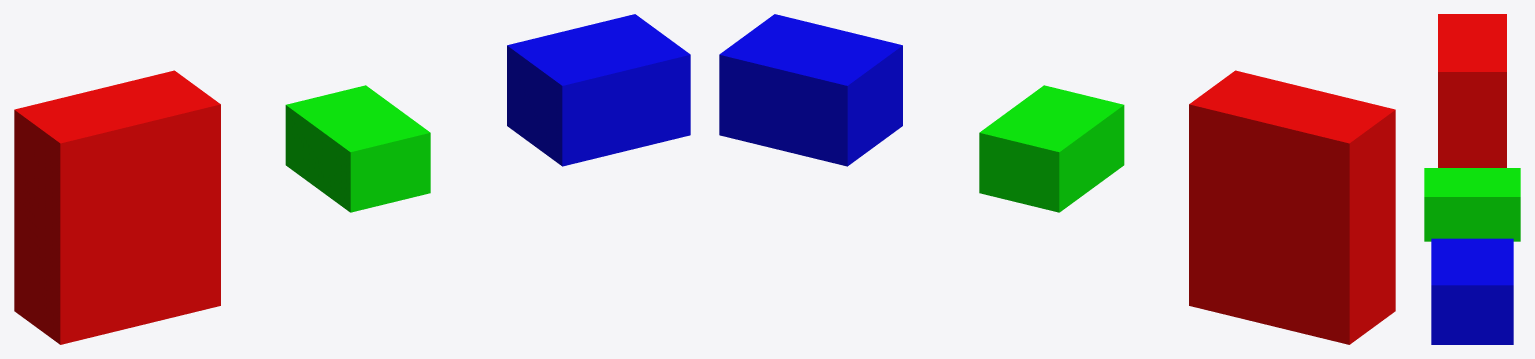
3 views of the same model, side by side, from view 1: azimuth 30°, elevation 25°; view 2: azimuth 150°, elevation 25°; view 3: azimuth 270°, elevation 25° (orthographic). The views are drawn at different scales.
Visible parts, largest first — view 1: Combined_roles; view 2: Combined_roles; view 3: Combined_roles.
Part boxes in pixels (left/top/right/bottom): Combined_roles: left=14, top=14, right=690, bottom=344; Combined_roles: left=719, top=14, right=1395, bottom=344; Combined_roles: left=1424, top=14, right=1520, bottom=344.
Size of the model in its own units: 7.8 by 2.4 by 1.4.
